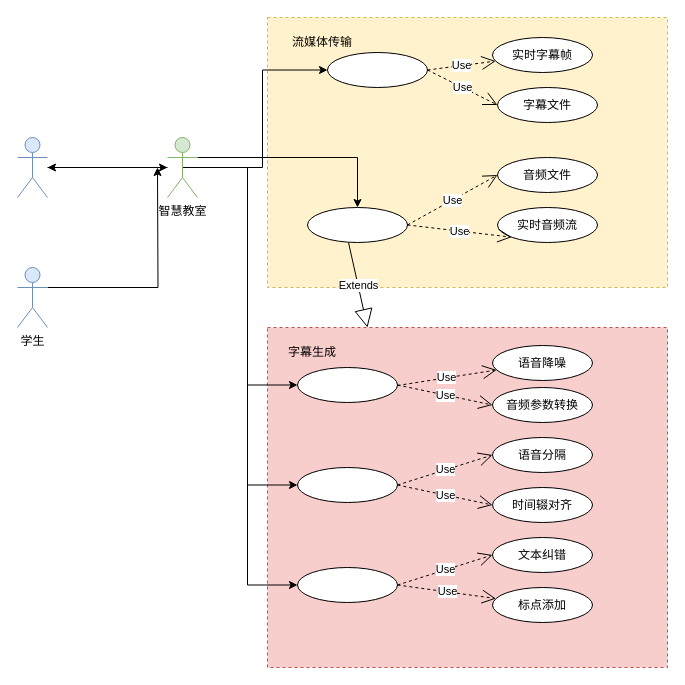
Image size: 685x685. Some labels were removed from this diagram. Each missing label, with the centre of its shape:
字幕请求: the point at 357,224
字幕返回: the point at 377,70
教师: the point at 32,167
文本处理: the point at 347,584
语音识别: the point at 347,484
音频信号处理: the point at 347,384
